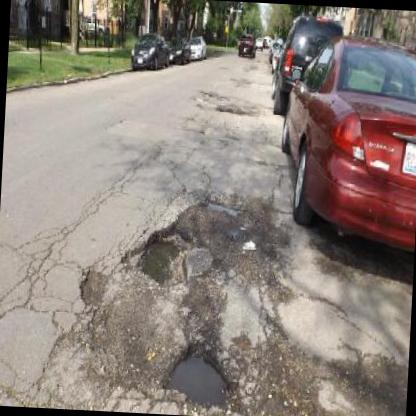pothole: (119, 216, 199, 290), (160, 340, 237, 408), (77, 266, 111, 306), (214, 102, 248, 115), (238, 236, 258, 253)
